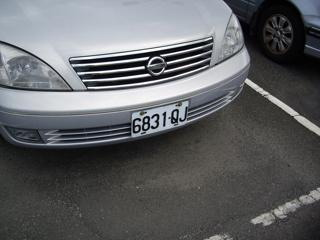plate: (131, 103, 189, 135)
